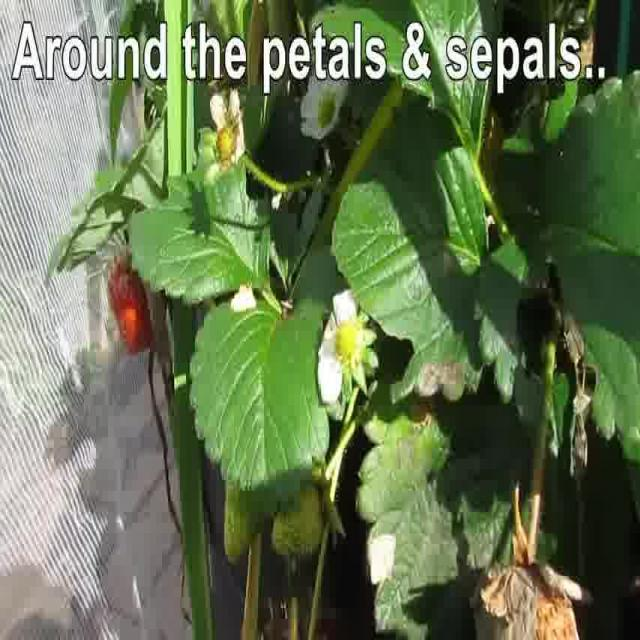Fruta sana: (272, 468, 348, 558), (106, 242, 162, 357), (222, 480, 260, 566)
Moho gris: (467, 517, 595, 640)
